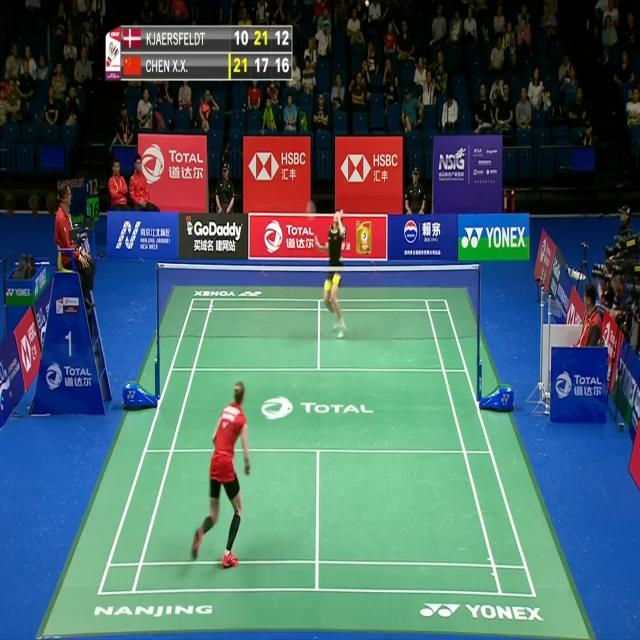Player1: (188, 376, 254, 574)
Player2: (301, 196, 353, 348)
